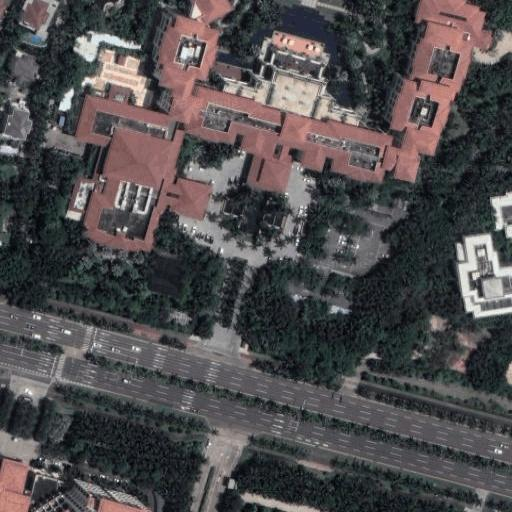building: (185, 72, 389, 195), (380, 0, 494, 181), (81, 128, 211, 255), (156, 14, 217, 123), (74, 93, 188, 148), (456, 233, 507, 318), (63, 19, 140, 71), (269, 50, 324, 82), (19, 0, 60, 32), (39, 129, 84, 154), (489, 191, 512, 238), (8, 52, 40, 85), (3, 106, 33, 141), (69, 177, 97, 212), (50, 78, 77, 113), (501, 266, 512, 311), (107, 85, 129, 104), (0, 140, 19, 159)
